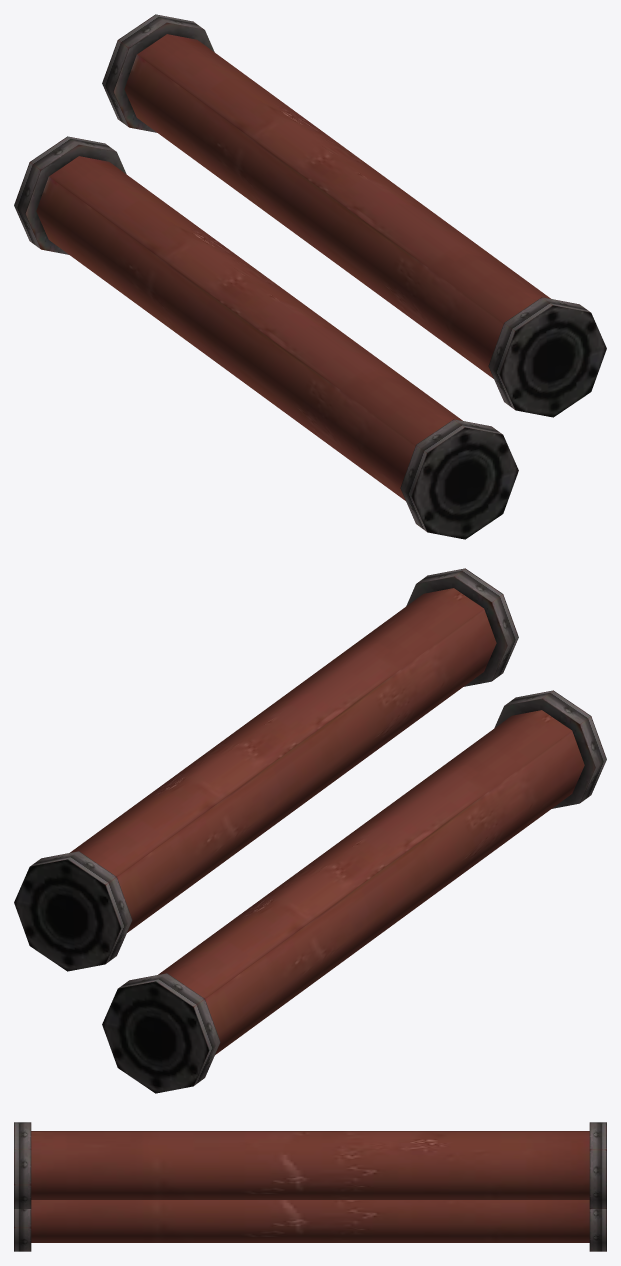
3 renders of one model, top to bottom at view 1: azimuth 30°, elevation 25°; view 2: azimuth 150°, elevation 25°; view 3: azimuth 270°, elevation 25°, orthographic. The views are drawn at different scales.
Visible parts, largest first — view 1: body0_model0_lod0_mesh0; view 2: body0_model0_lod0_mesh0; view 3: body0_model0_lod0_mesh0.
Boxes of the visible parts, left/top/right/bottom form: body0_model0_lod0_mesh0: left=14, top=14, right=606, bottom=539; body0_model0_lod0_mesh0: left=14, top=568, right=606, bottom=1093; body0_model0_lod0_mesh0: left=14, top=1122, right=606, bottom=1251.
Bounding box in the file's own units: 18.14 × 18.88 × 64.08.
1 material, 1 textured.
